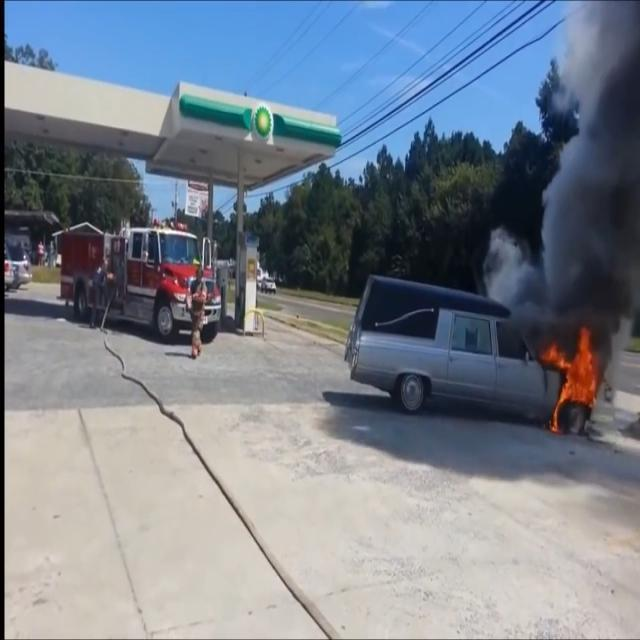fire: (532, 321, 607, 441)
